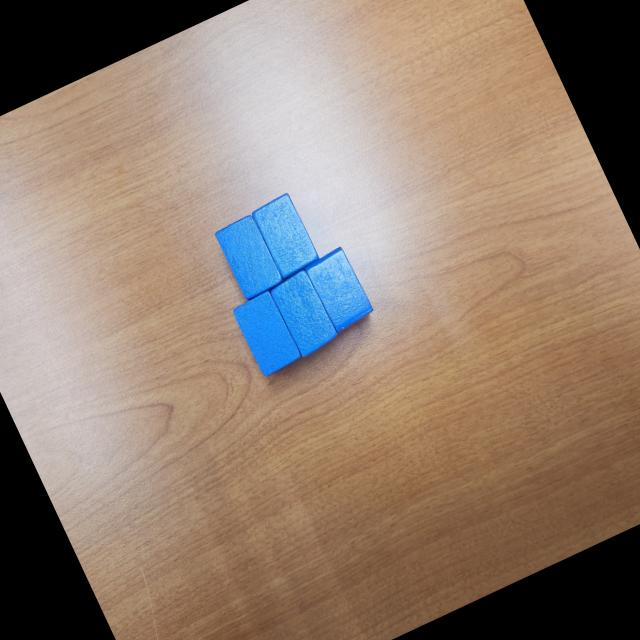blue: (210, 210, 286, 304), (266, 268, 342, 361), (302, 244, 378, 335), (230, 288, 305, 380), (249, 190, 323, 282)
